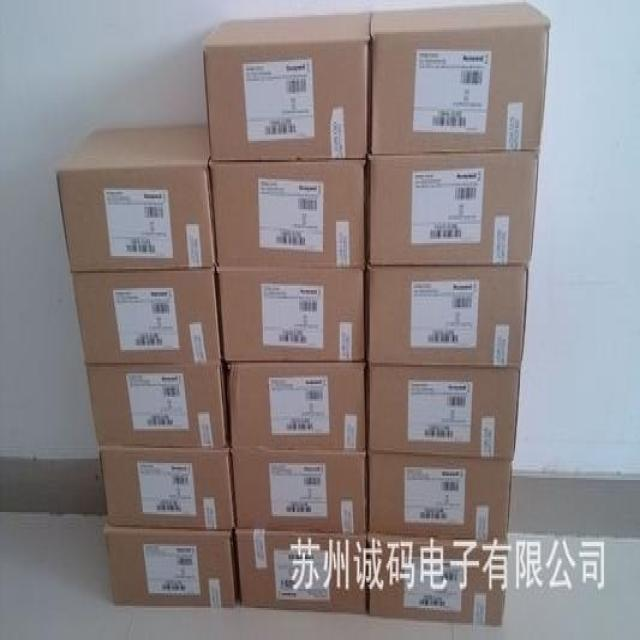Carton: (55, 9, 367, 358), (73, 271, 237, 608), (371, 0, 550, 151), (227, 363, 365, 531), (369, 156, 538, 265), (370, 269, 527, 367), (370, 369, 518, 457), (369, 457, 512, 542)
